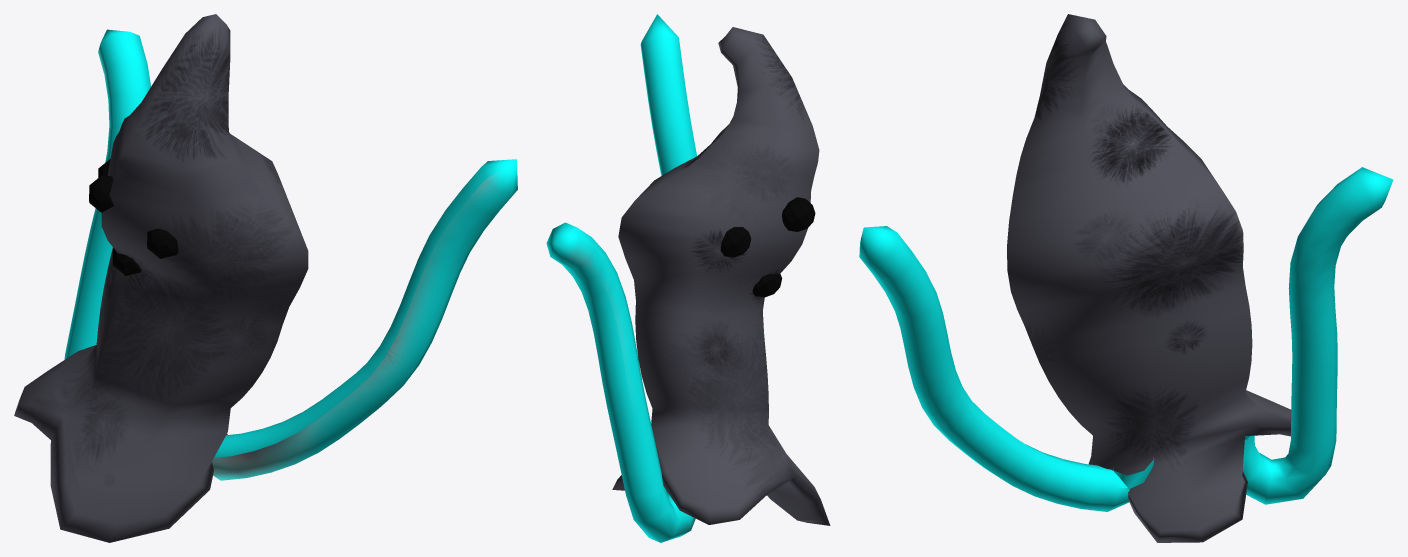
File: Lab_Alien.fbx
The picture shows the model from 3 angles, left to right: view 1: azimuth 30°, elevation 25°; view 2: azimuth 150°, elevation 25°; view 3: azimuth 270°, elevation 25°; orthographic projection. The views are drawn at different scales.
Visible parts, largest first — view 1: pSphere1, sweep7, sweep6, pSphere3, pSphere4; view 2: pSphere1, sweep6, sweep7, pSphere4, pSphere2, pSphere5; view 3: pSphere1, sweep7, sweep6.
Boxes of the visible parts, left/top/right/bottom form: pSphere1: left=14, top=14, right=308, bottom=542; sweep7: left=211, top=159, right=517, bottom=480; sweep6: left=64, top=29, right=150, bottom=359; pSphere3: left=147, top=228, right=178, bottom=258; pSphere4: left=89, top=174, right=113, bottom=212; pSphere1: left=612, top=27, right=830, bottom=525; sweep6: left=546, top=222, right=695, bottom=542; sweep7: left=640, top=14, right=696, bottom=175; pSphere4: left=782, top=197, right=815, bottom=231; pSphere2: left=720, top=227, right=751, bottom=257; pSphere5: left=752, top=273, right=782, bottom=297; pSphere1: left=1007, top=14, right=1291, bottom=542; sweep7: left=859, top=226, right=1154, bottom=511; sweep6: left=1242, top=167, right=1393, bottom=504.
Size of the model in its own units: 0.9133 by 1.36 by 1.26.
